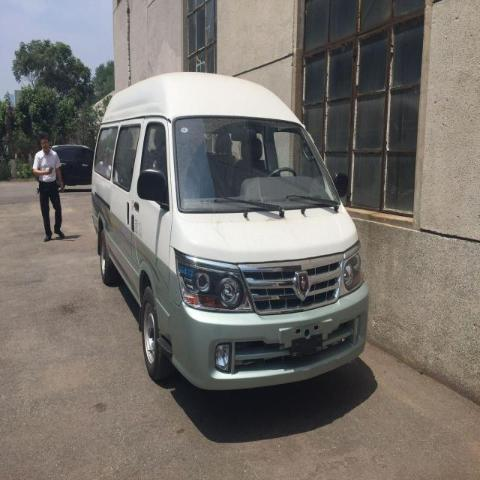van: (86, 70, 375, 396)
